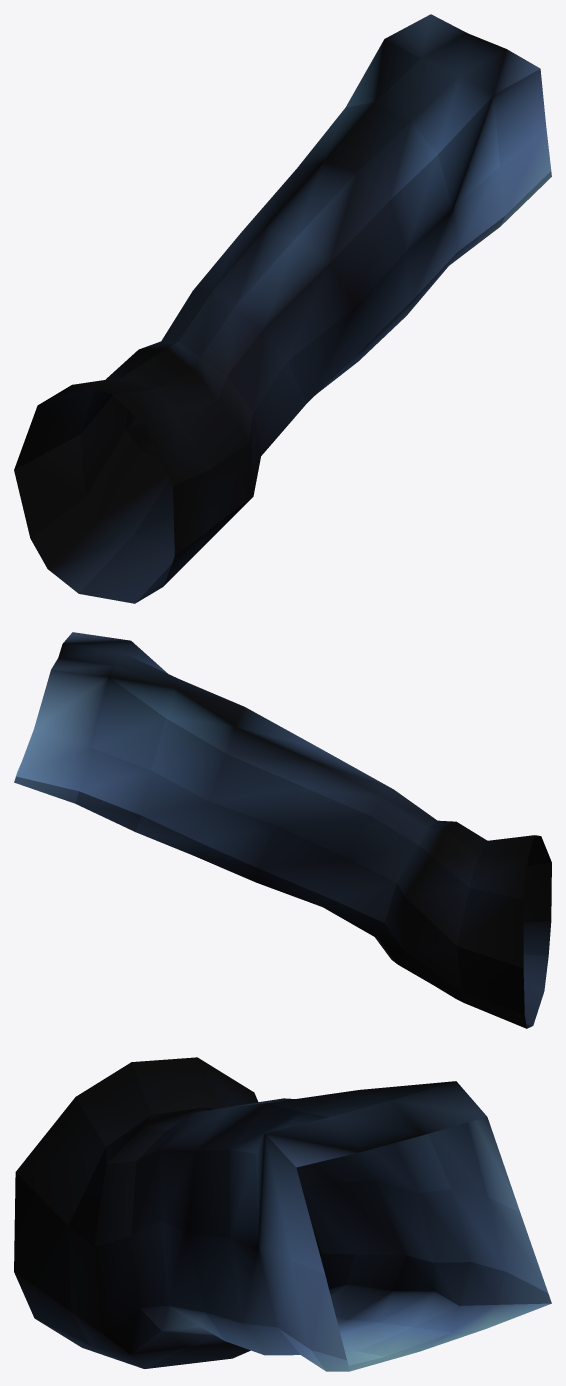
The model's file is MiningTunnel_1.obj.
3 views of the same model, one above another, from view 1: azimuth 30°, elevation 25°; view 2: azimuth 150°, elevation 25°; view 3: azimuth 270°, elevation 25° (orthographic). The views are drawn at different scales.
Visible parts, largest first — view 1: MiningTunnel_1; view 2: MiningTunnel_1; view 3: MiningTunnel_1.
Part boxes in pixels (x1,y1,x2,y2): MiningTunnel_1: (14,14,551,603); MiningTunnel_1: (14,632,551,1028); MiningTunnel_1: (14,1057,551,1371).
Size of the model in its own units: 10.37 by 6.86 by 6.1.
